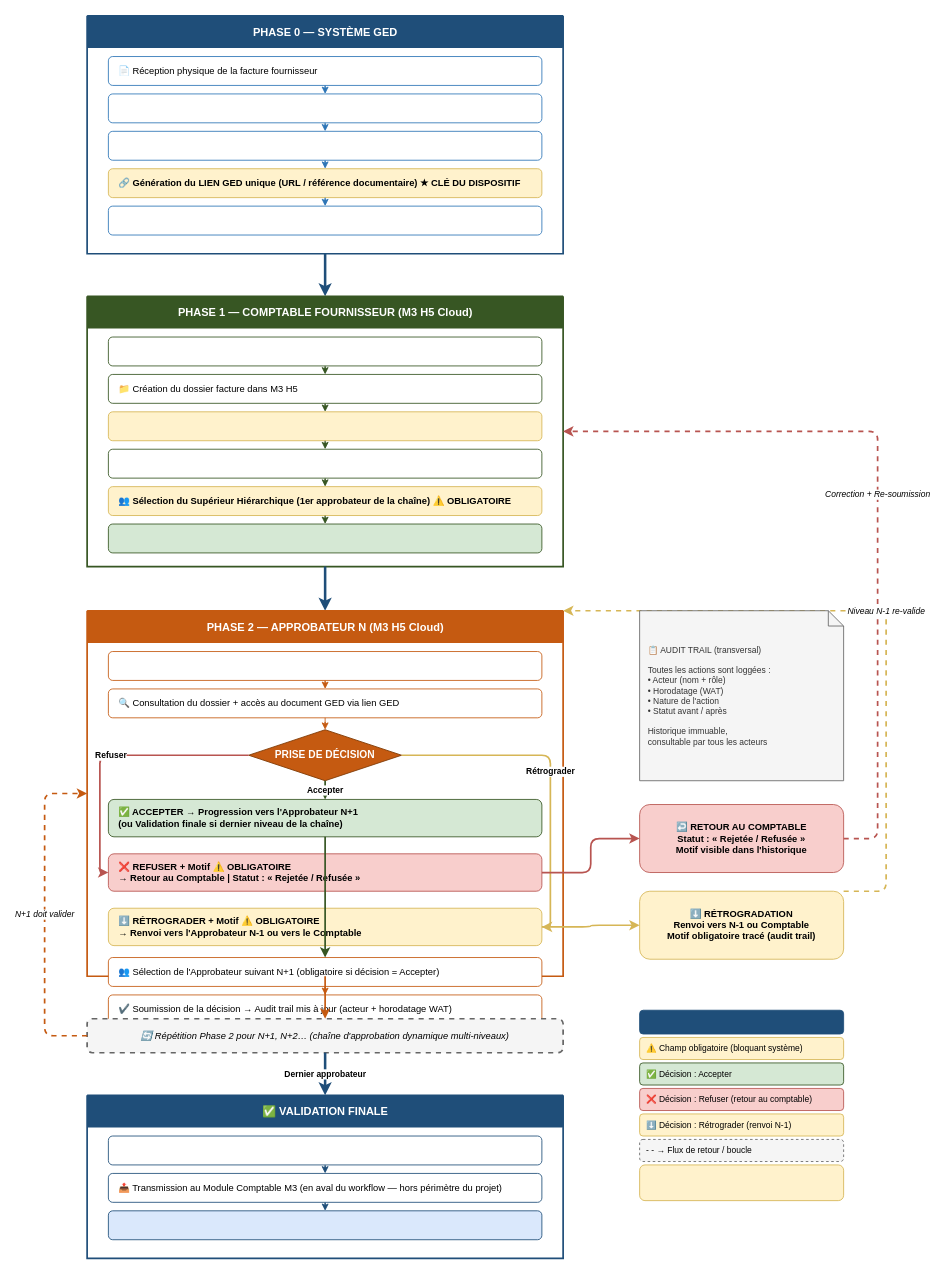
Image size: 944x1273. Some labels were removed from this diagram. The shapes that lost their labels are listed below. From the top down, each one's box as (x1, y1, x2, y2) in pixels, then its label:
(108, 93, 542, 123): 💾 Enregistrement de la facture dans le GED
(108, 130, 542, 160): 🖨️ Numérisation (scan) + Vidéocodage (saisie des métadonnées)
(108, 205, 542, 235): 📨 Transmission du lien GED au Comptable Fournisseur
(108, 336, 542, 366): 🌐 Connexion à M3 H5 Cloud via navigateur (SSO / login sécurisé)
(108, 411, 542, 441): 🔗 Sauvegarde du LIEN GED dans le dossier ⚠️ OBLIGATOIRE — bloquant au démarrage
(108, 448, 542, 478): 👤 Sélection / modification du Responsable Opérationnel (champ optionnel)
(108, 523, 542, 553): ▶️ Démarrage du workflow → Statut facture : « Émise / Démarrée »
(108, 651, 542, 680): 📥 Réception de la facture dans le tableau de bord Approbateur
(639, 1009, 844, 1034): LÉGENDE
(108, 1135, 542, 1165): 🏆 Statut facture = « Validée définitivement »
(639, 1164, 844, 1201): ★ LIEN GED = clé de liaison entre le système GED et le workflow M3 H5
(108, 1210, 542, 1240): 💰 Comptabilisation de la facture fournisseur dans M3
